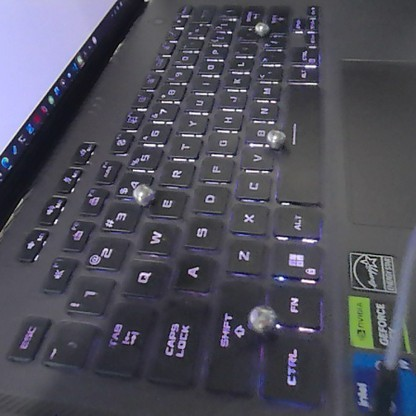ironball: (244, 300, 281, 337), (127, 178, 154, 205), (261, 126, 291, 149), (251, 20, 270, 37)
